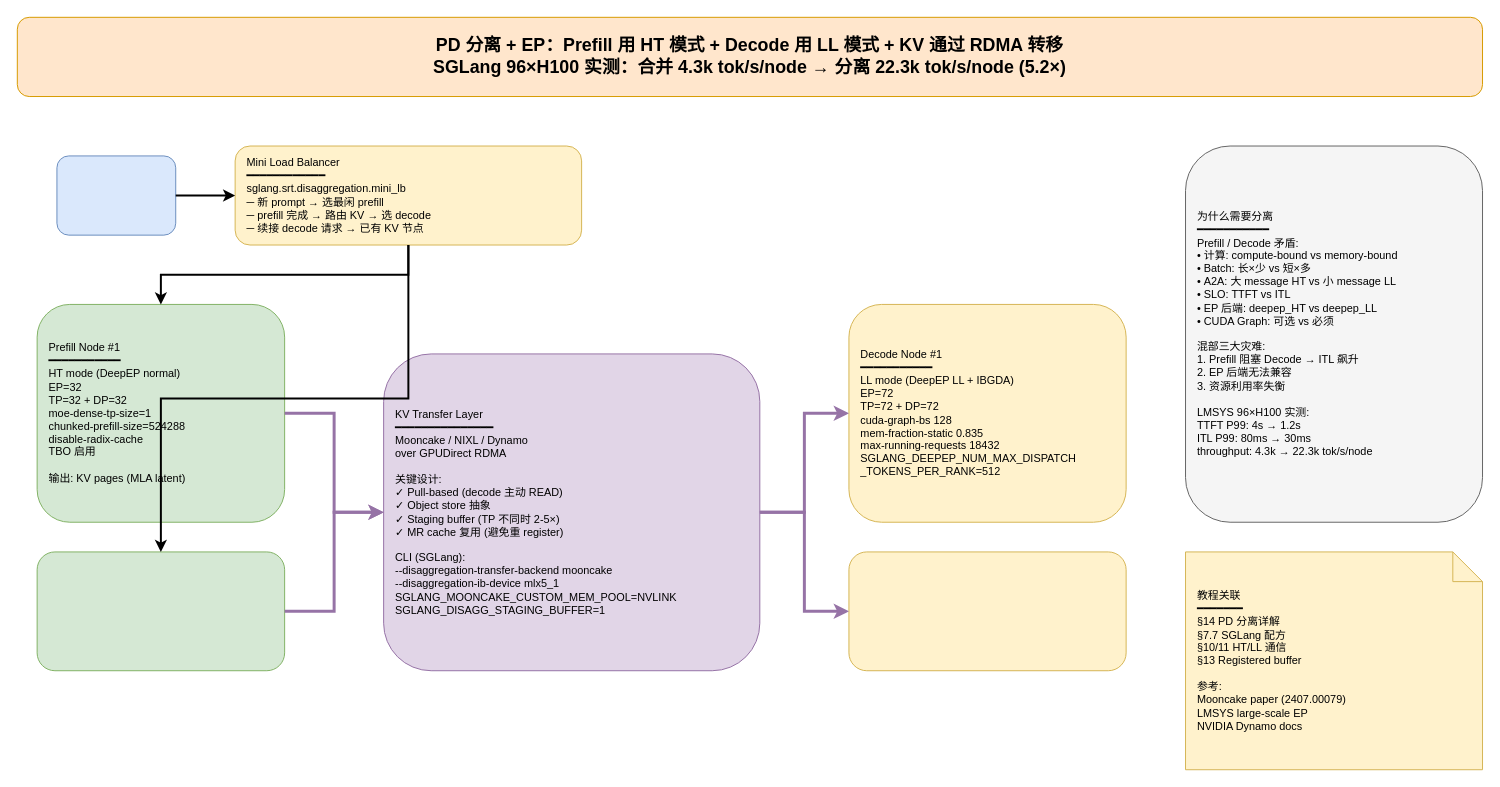
This 1500x787 diagram has some shape labels left out. The centre of each missing label's shape, as x and y in pixels:
Client ━━━━━ HTTP / gRPC requests: the point at 116,195
Decode Node #2-9 ━━━━━━━━━━━━ LL mode 同上 9 节点 = 72 GPU = EP=72: the point at 987,611
Prefill Node #2 ━━━━━━━━━━━ HT mode (DeepEP normal) EP=32 同上配置: the point at 160,611
